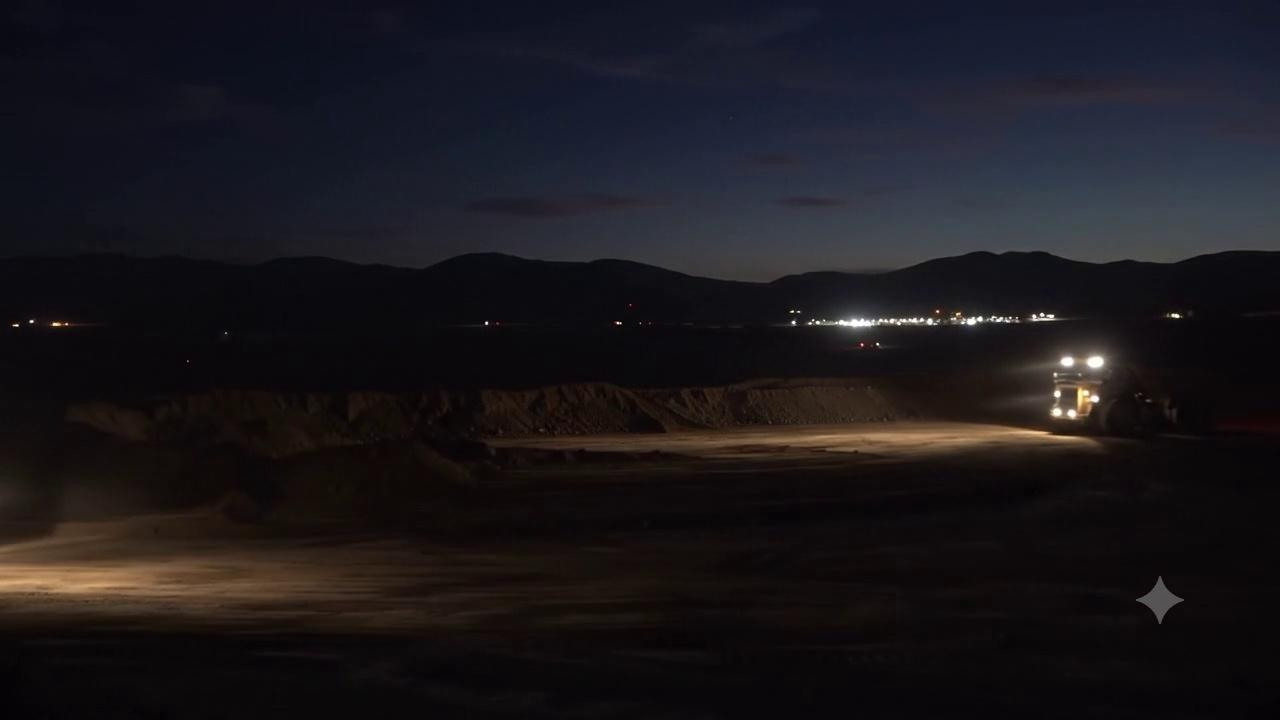CAEX: (1049, 353, 1219, 434)
